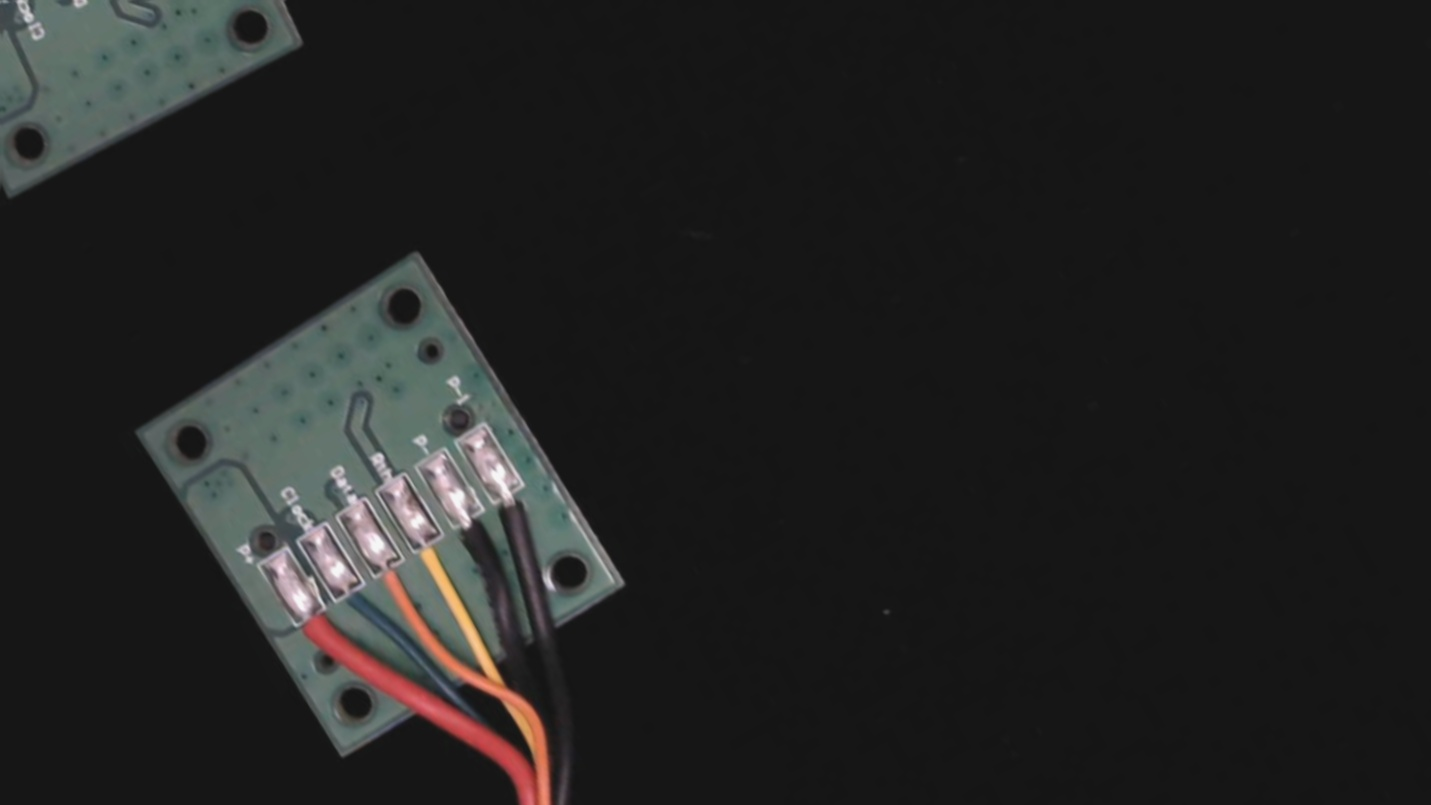Black: (431, 483, 517, 580)
Black1: (473, 461, 555, 551)
Green: (313, 560, 398, 654)
Orange: (352, 534, 436, 628)
Red: (274, 585, 359, 678)
Yellow: (388, 512, 475, 609)
